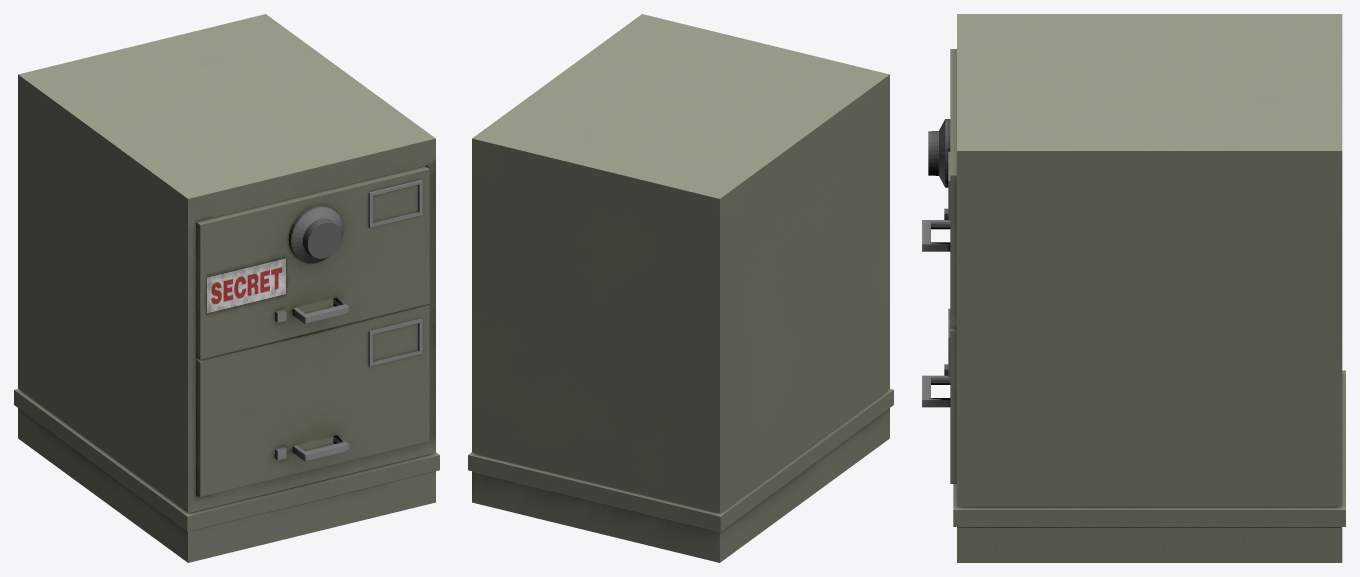
File: Office_Safe2Drawer_1.fbx
3 renders of one model, left to right at view 1: azimuth 30°, elevation 25°; view 2: azimuth 150°, elevation 25°; view 3: azimuth 270°, elevation 25°, orthographic. The views are drawn at different scales.
Parts seen in each view (by area): view 1: Office_Safe2Drawer_1; view 2: Office_Safe2Drawer_1; view 3: Office_Safe2Drawer_1.
Part boxes in pixels (x1,y1,x2,y2): Office_Safe2Drawer_1: (14, 14, 439, 562); Office_Safe2Drawer_1: (468, 14, 893, 562); Office_Safe2Drawer_1: (922, 14, 1345, 562).
Size of the model in its own units: 47.93 by 66.02 by 61.54.
